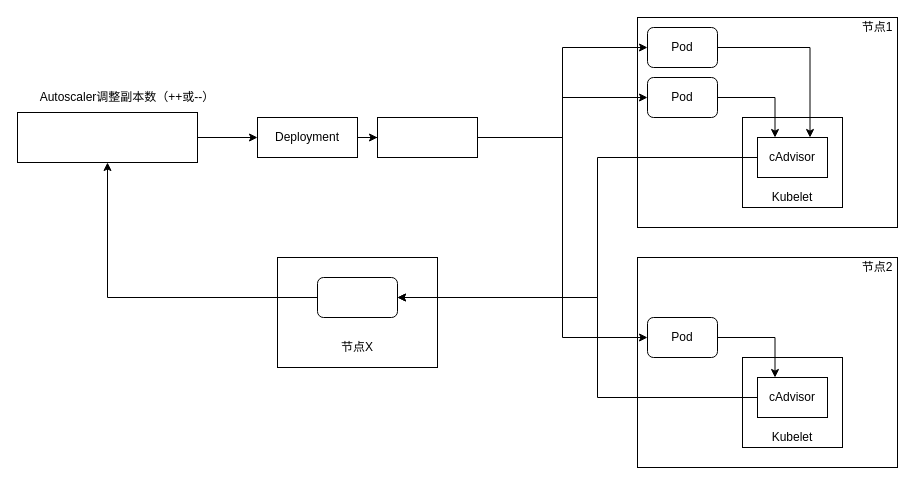
Some shapes in this 915 by 485 pixel diagram are drawn without their labels. The shapes that lost their labels are listed below. From the top down, each one's centre as x and y in pixels, then its label:
At [107,137]: "Horizontal Pod Autoscaler".
At [427,137]: "ReplicaSet".
At [357,297]: "Heapster".
